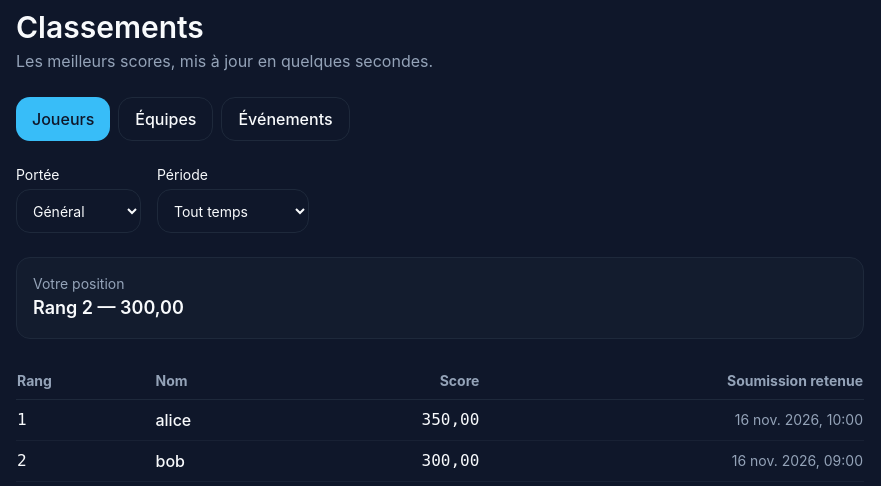
Test: classements (T100) › bascule vers le classement des équipes
Expected: the text "alice" is shown, [154,400,296,440]
Click the tab "Équipes".
click(166, 119)  # box [118,97,213,141]
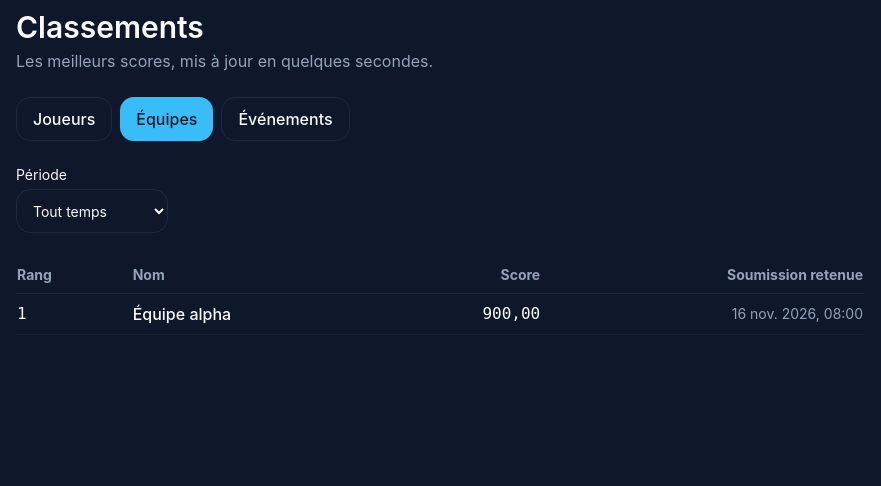
Expected: the text "Équipe alpha" is shown, [132,294,389,334]
